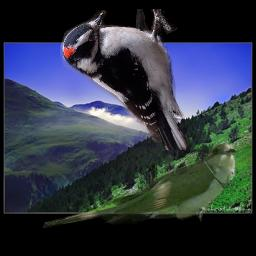Cuckoo: (42, 141, 236, 230)
Woodpecker: (60, 9, 189, 150)
